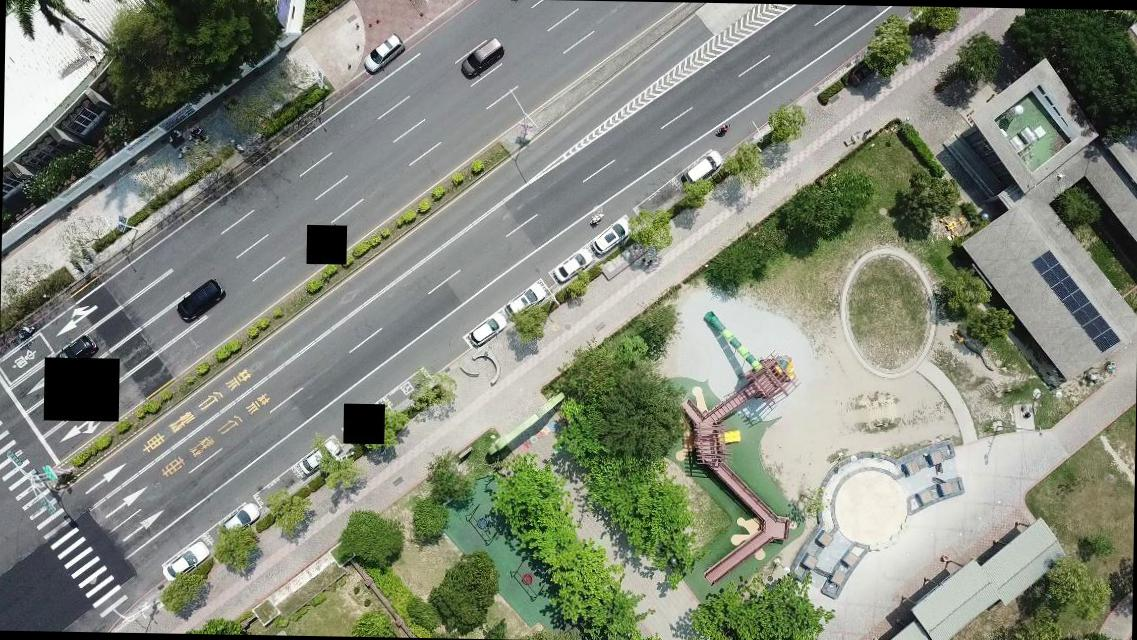vehicle: (175, 278, 227, 323), (161, 540, 210, 581), (460, 37, 504, 79), (55, 334, 98, 374), (363, 33, 405, 73), (591, 216, 631, 257), (552, 247, 593, 286), (299, 440, 342, 476), (221, 500, 260, 539), (506, 281, 546, 317), (684, 149, 723, 184), (470, 312, 508, 347)
